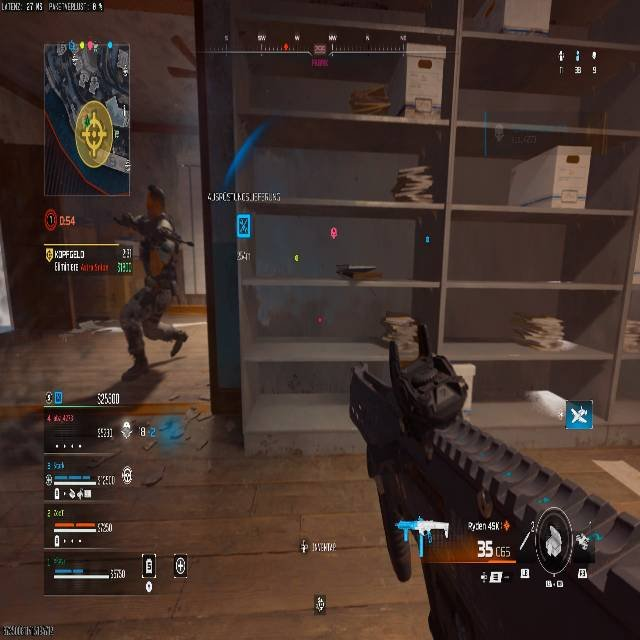head: (145, 185, 166, 216)
player: (115, 185, 185, 384)
